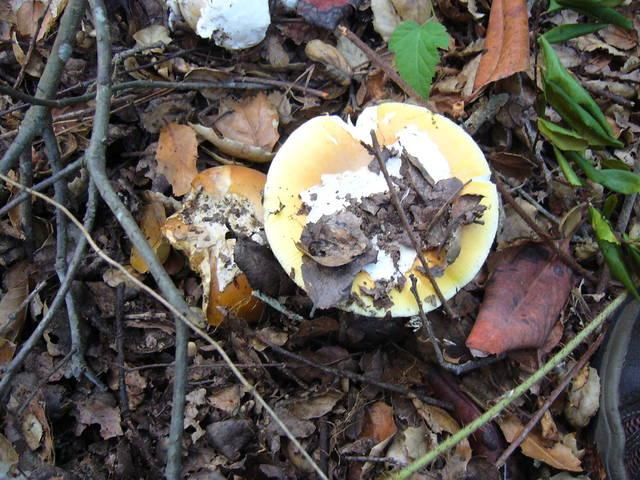Edible Mushroom: (262, 100, 500, 320), (159, 163, 268, 328)
